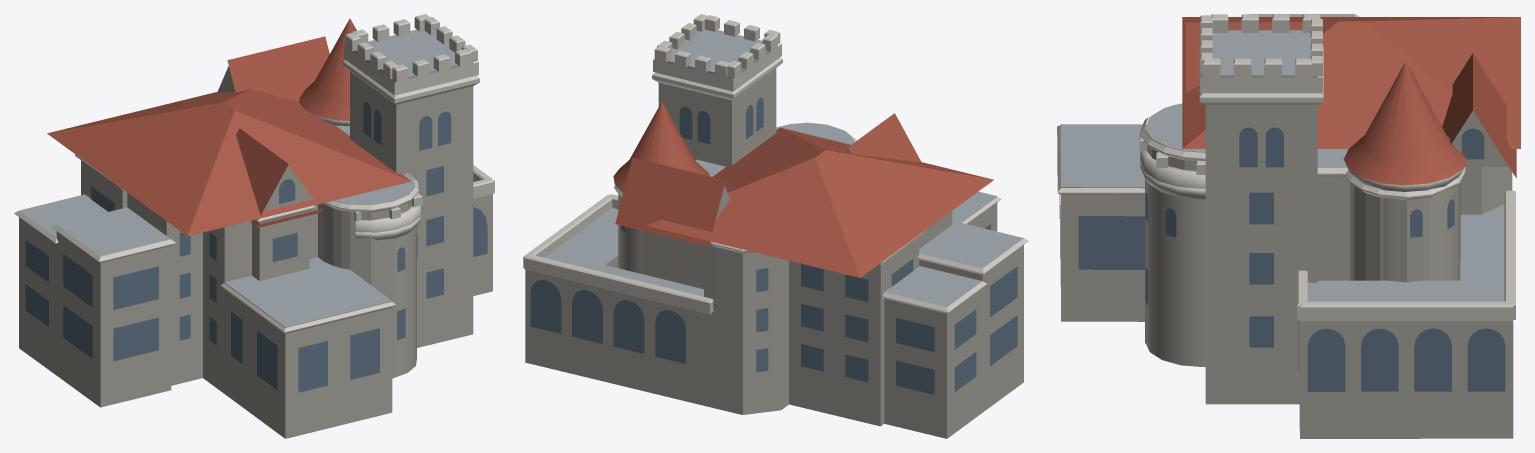
Rendered from atl-rhodes-hall.glb.
3 views of the same model, side by side, from view 1: azimuth 30°, elevation 25°; view 2: azimuth 150°, elevation 25°; view 3: azimuth 270°, elevation 25° (orthographic). The views are drawn at different scales.
Visible parts, largest first — view 1: Rhodes Hall; view 2: Rhodes Hall; view 3: Rhodes Hall.
Part boxes in pixels (x1,y1,x2,y2): Rhodes Hall: (14, 14, 494, 438); Rhodes Hall: (523, 14, 1028, 438); Rhodes Hall: (1057, 14, 1520, 438).
Size of the model in its own units: 33.37 by 21.7 by 26.57.
